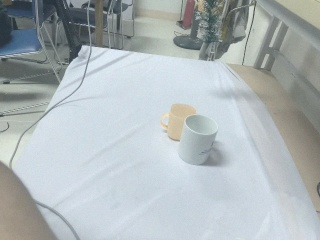cup: (177, 113, 222, 166), (159, 102, 198, 141)
